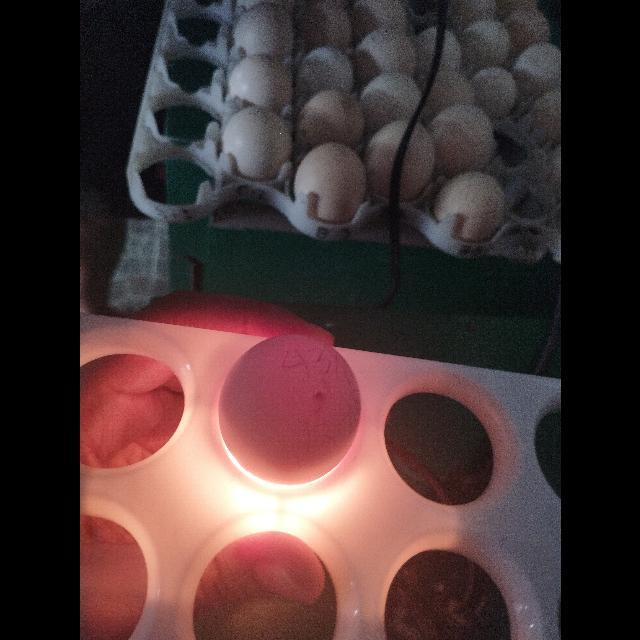Fertile: (216, 332, 364, 490)
